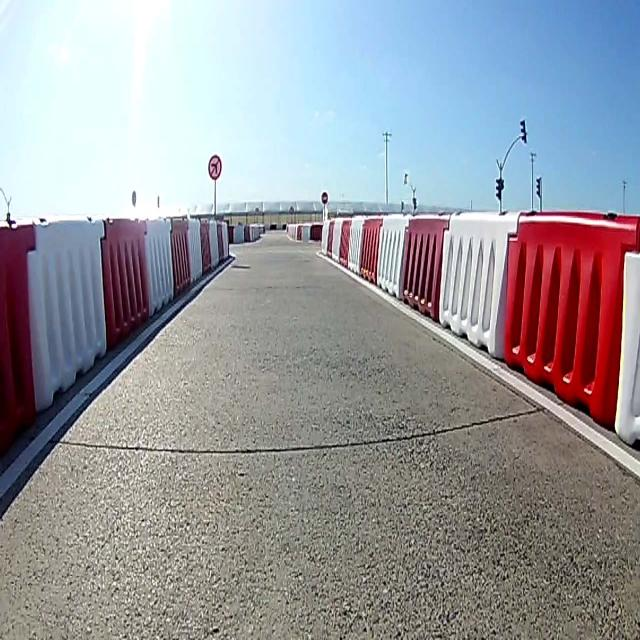girisyok: (321, 190, 328, 203)
soladonulmez: (209, 154, 221, 178)
